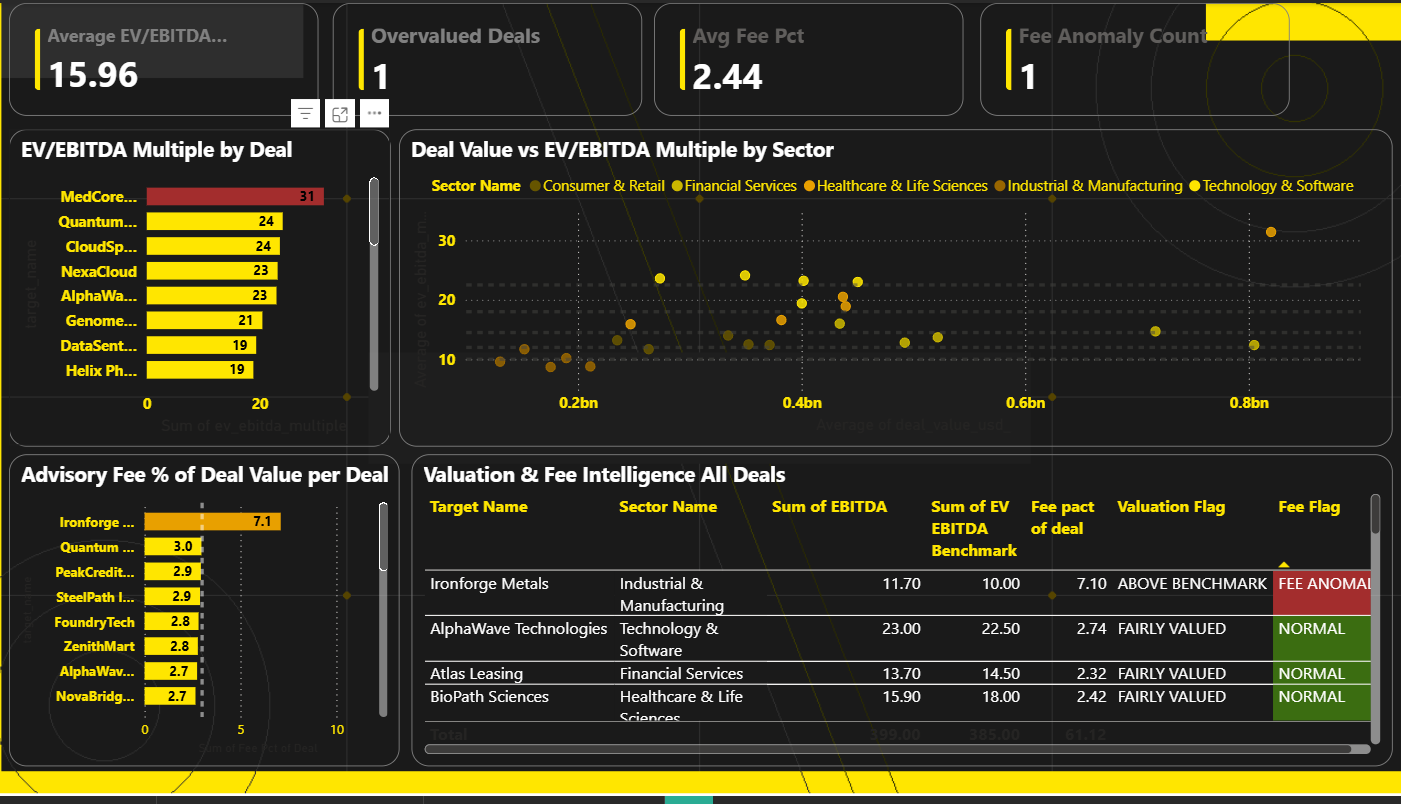

Layout of this report page (visuals, bound fields, positions):
{"tool":"powerbi","page":{"name":"Page 1Valuation & Fee Intelligence","canvas":[1280,720],"ordinal":2},"visuals":[{"type":"cardVisual","fields":{"Data":["Pipeline KPI Measures.Average EV/EBITDA Multiple"]},"box":[9.8,0,280.5,172],"z":0},{"type":"cardVisual","fields":{"Data":["Valuation Measures.Overvalued Deals"]},"box":[308.5,0,280.5,172],"z":1},{"type":"cardVisual","fields":{"Data":["Fees Measures.Avg Fee Pct"]},"box":[613.4,12.2,280.5,172],"z":2},{"type":"cardVisual","fields":{"Data":["Fees Measures.Fee Anomaly Count"]},"box":[915.9,0,280.5,172],"z":3},{"type":"clusteredBarChart","fields":{"Category":["dim_deal.target_name"],"Y":["Sum(dim_deal.ev_ebitda_multiple)"]},"box":[36.6,239,280.5,172],"z":4},{"type":"scatterChart","fields":{"X":["dim_deal.deal_value_usd_"],"Y":["Sum(dim_deal.ev_ebitda_multiple)"],"Series":["dim_sector.sector_name"]},"box":[359.8,239,280.5,172],"z":5}]}

Visuals, with their boxes in screenshot pixels (x1, y1, x2, y2), scaled from the page's 1280x720 canvas onto the 1401x804 screenshot:
cardVisual - Pipeline KPI Measures.Average EV/EBITDA Multiple: (11,0,318,192)
cardVisual - Valuation Measures.Overvalued Deals: (338,0,645,192)
cardVisual - Fees Measures.Avg Fee Pct: (671,14,978,206)
cardVisual - Fees Measures.Fee Anomaly Count: (1002,0,1309,192)
clusteredBarChart - dim_deal.target_name x Sum(dim_deal.ev_ebitda_multiple): (40,267,347,459)
scatterChart - dim_deal.deal_value_usd_ x Sum(dim_deal.ev_ebitda_multiple): (394,267,701,459)
